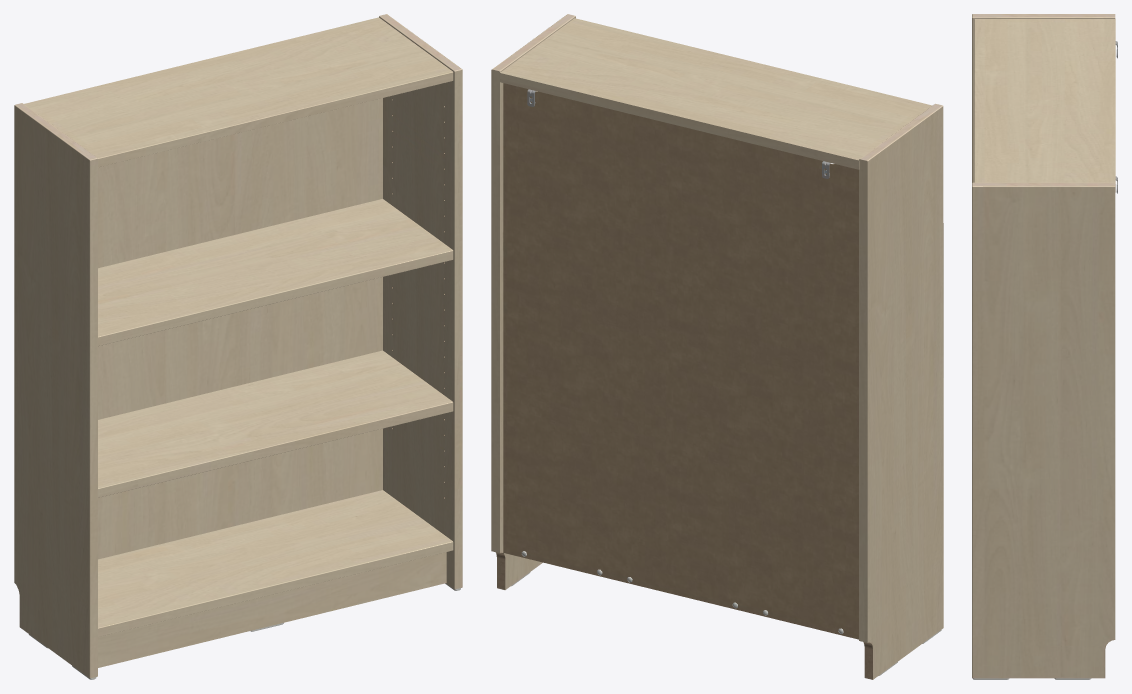
Rendered from BILLY_90477385.glb.
3 views of the same model, side by side, from view 1: azimuth 30°, elevation 25°; view 2: azimuth 150°, elevation 25°; view 3: azimuth 270°, elevation 25° (orthographic). The views are drawn at different scales.
Visible parts, largest first — view 1: model; view 2: model; view 3: model.
Boxes of the visible parts, x1,y1,x2,y2 form: model: [14, 14, 462, 679]; model: [491, 14, 943, 679]; model: [972, 14, 1117, 679].
Size of the model in its own units: 0.798 by 1.07 by 0.285.
Materials: 1 (1 with a texture image).
